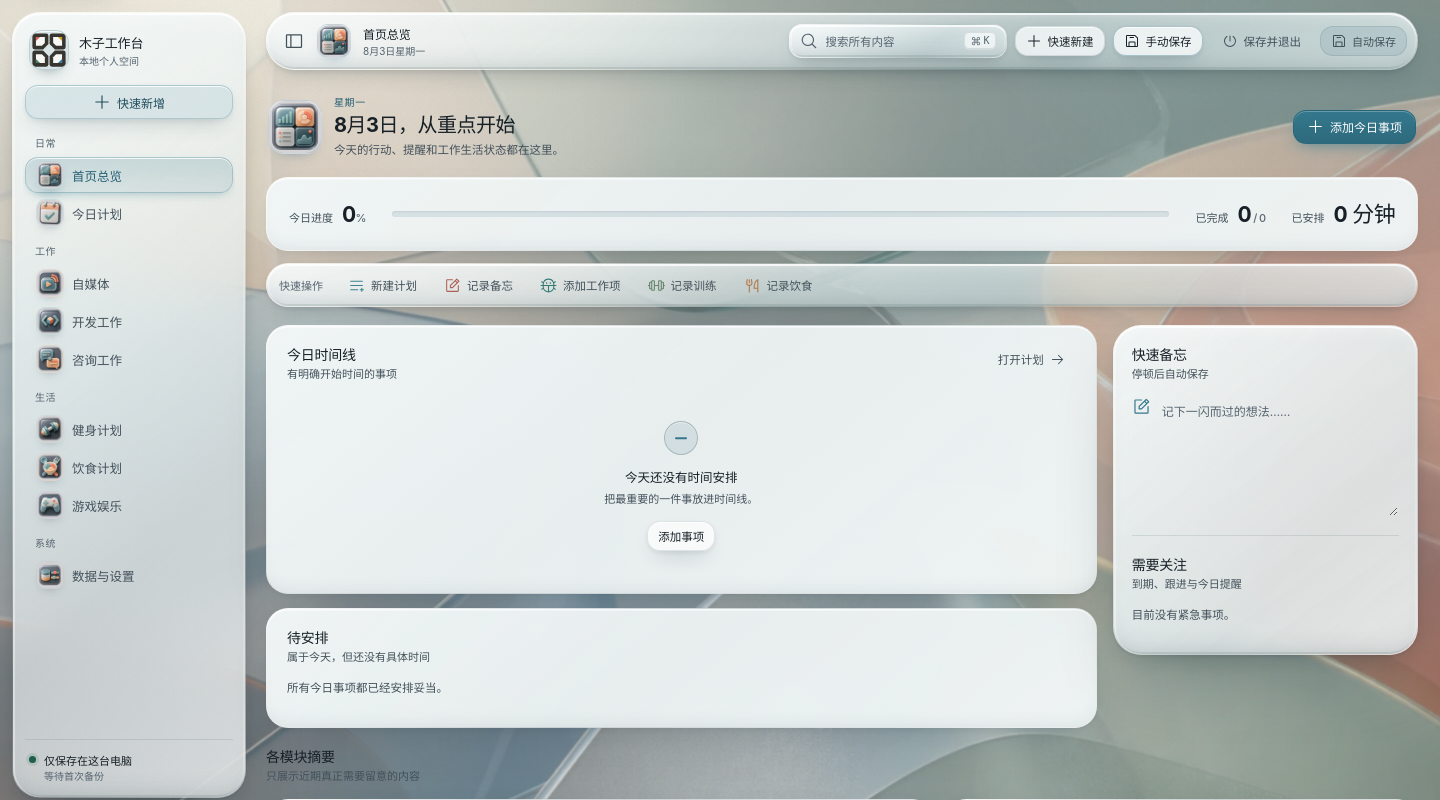
Scenario: application shell › offers a manual save button and confirms a successful disk save
Click the button "手动保存" at [1158, 41], box [1112,26,1202,56]
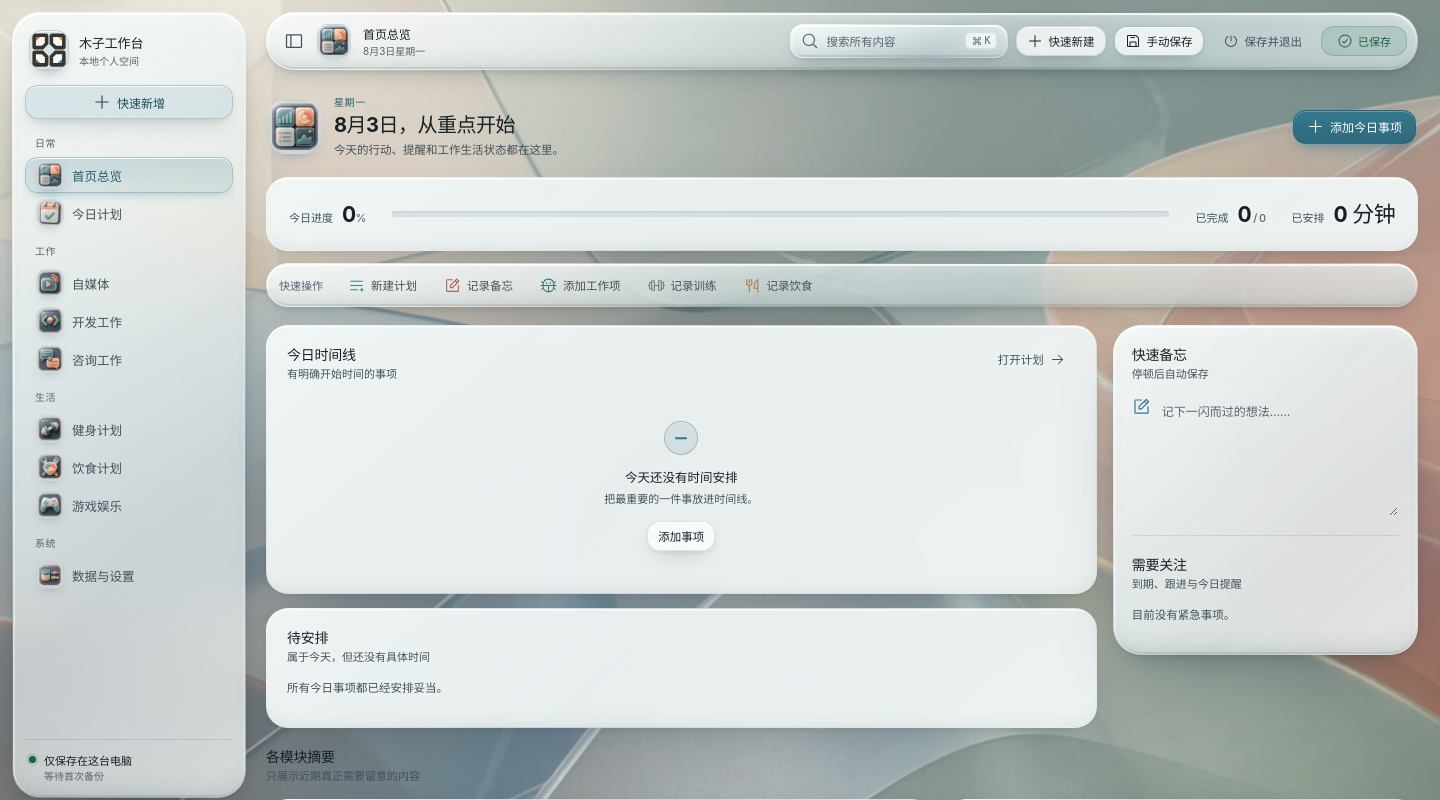
Now the message reads "已保存", box [1358,35,1391,49]
